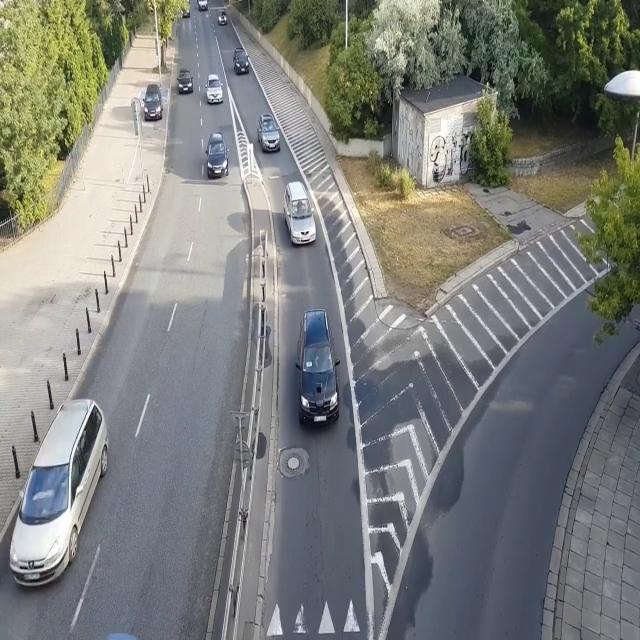car: (9, 399, 109, 589), (294, 309, 341, 429), (283, 181, 317, 246), (205, 132, 229, 178), (256, 113, 280, 153), (142, 84, 163, 121), (205, 74, 223, 104), (176, 68, 194, 95), (233, 48, 250, 76), (217, 9, 228, 26)
van: (180, 0, 190, 19), (196, 0, 208, 11)
